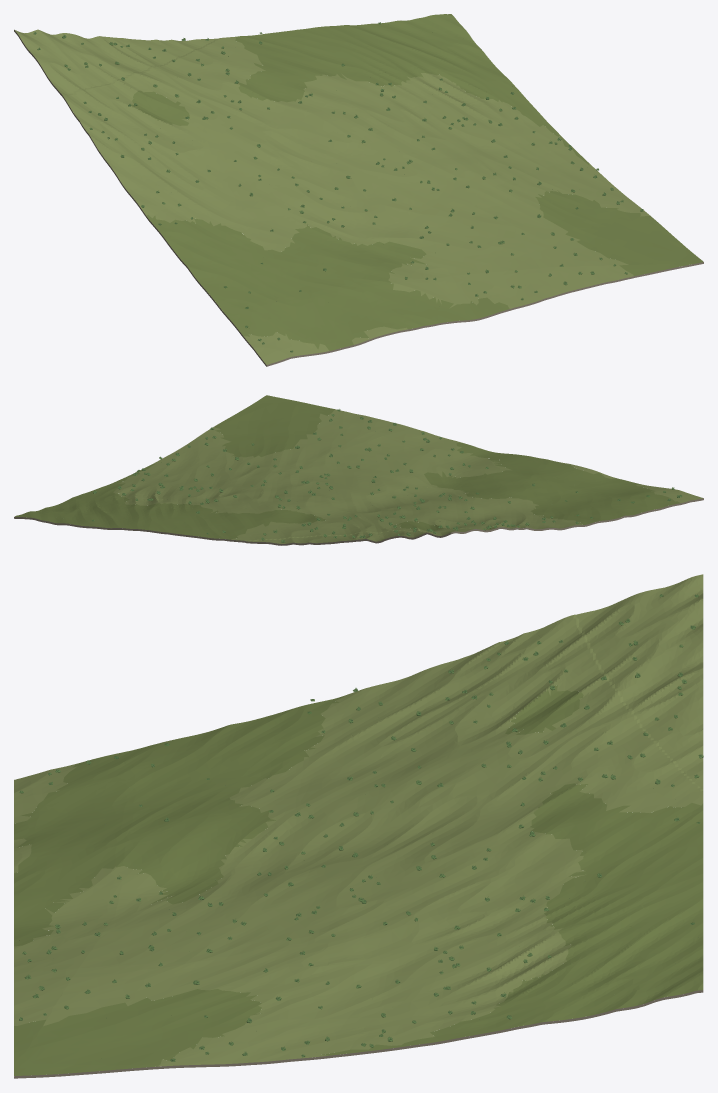
File: parca_+7_-8-yakin.glb
3 renders of one model, top to bottom at view 1: azimuth 30°, elevation 25°; view 2: azimuth 150°, elevation 25°; view 3: azimuth 270°, elevation 25°, orthographic. The views are drawn at different scales.
Parts seen in each view (by area): view 1: parca_+7_-8_arazi, parca_+7_-8_bitkiler; view 2: parca_+7_-8_arazi, parca_+7_-8_bitkiler; view 3: parca_+7_-8_arazi, parca_+7_-8_bitkiler.
Boxes of the visible parts, x1,y1,x2,y2 form: parca_+7_-8_arazi: [14, 14, 703, 366]; parca_+7_-8_bitkiler: [33, 22, 643, 352]; parca_+7_-8_arazi: [14, 395, 703, 545]; parca_+7_-8_bitkiler: [63, 409, 682, 542]; parca_+7_-8_arazi: [14, 574, 703, 1078]; parca_+7_-8_bitkiler: [19, 594, 703, 1061].
Size of the model in its own units: 1003 by 345 by 1001.
